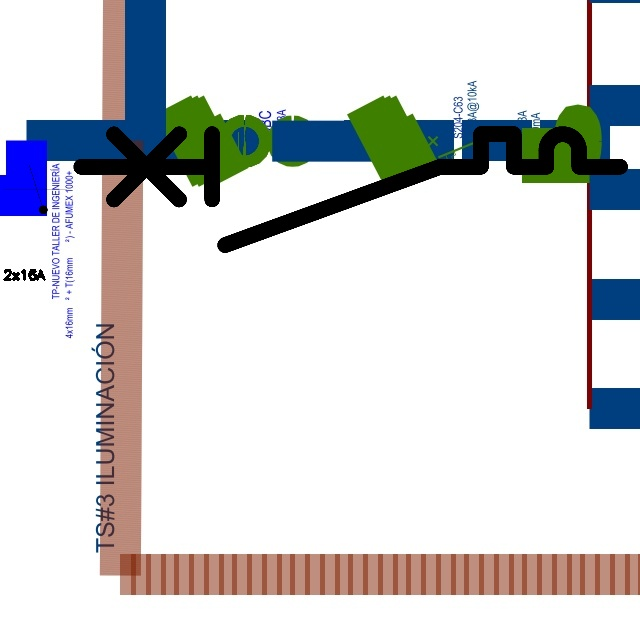interruptor_termomagnetico: (67, 120, 634, 259)
